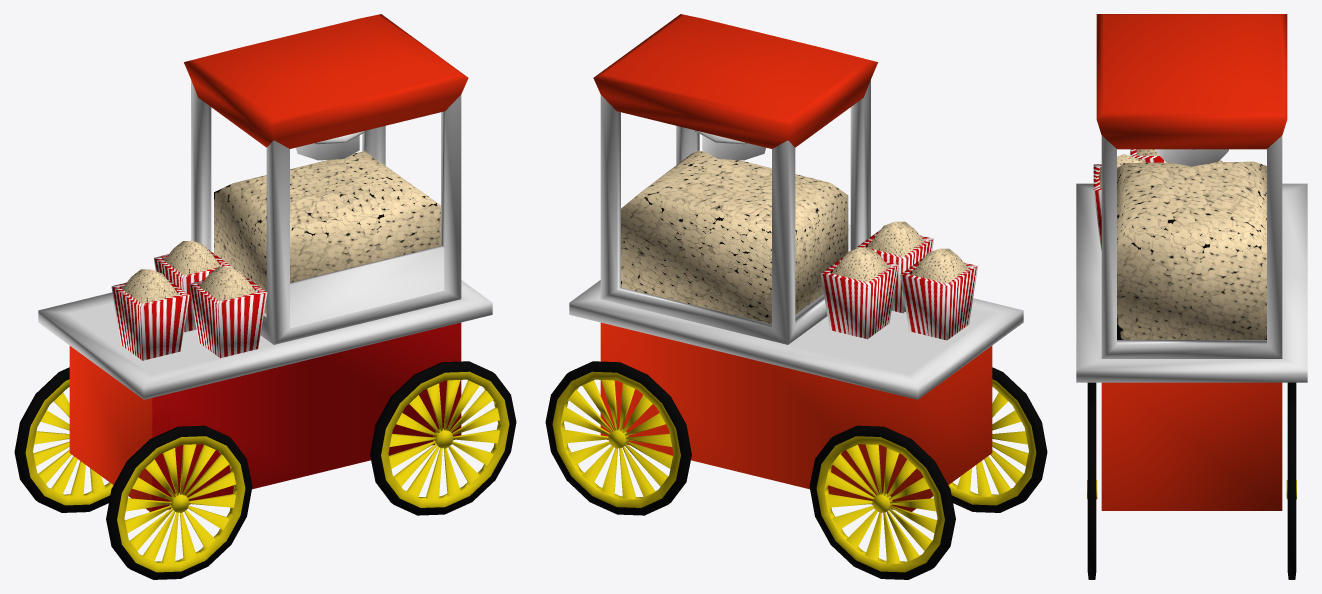
Rendered from PopcornCart.glb.
3 views of the same model, side by side, from view 1: azimuth 30°, elevation 25°; view 2: azimuth 150°, elevation 25°; view 3: azimuth 270°, elevation 25° (orthographic). The views are drawn at different scales.
Visible parts, largest first — view 1: Cube; view 2: Cube; view 3: Cube.
Boxes of the visible parts, <box> form: Cube: <box>14,14,516,579</box>; Cube: <box>545,14,1047,579</box>; Cube: <box>1076,14,1307,579</box>.
Bounding box in the file's own units: 5.68 × 5.92 × 2.56.
5 materials, 1 textured.
